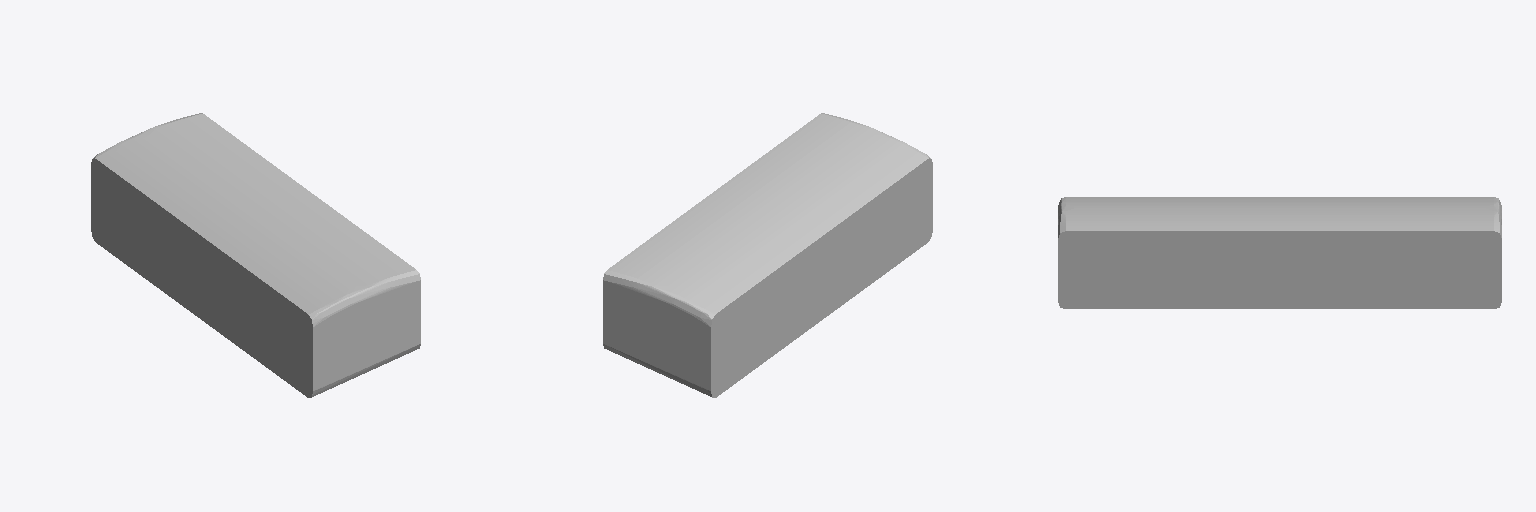
Rendered from Cylinder_with_Hole_collision_2.obj.
The picture shows the model from 3 angles: view 1: azimuth 30°, elevation 25°; view 2: azimuth 150°, elevation 25°; view 3: azimuth 270°, elevation 25°; orthographic projection.
Bounding box in the file's own units: 40.13 × 36.28 × 143.